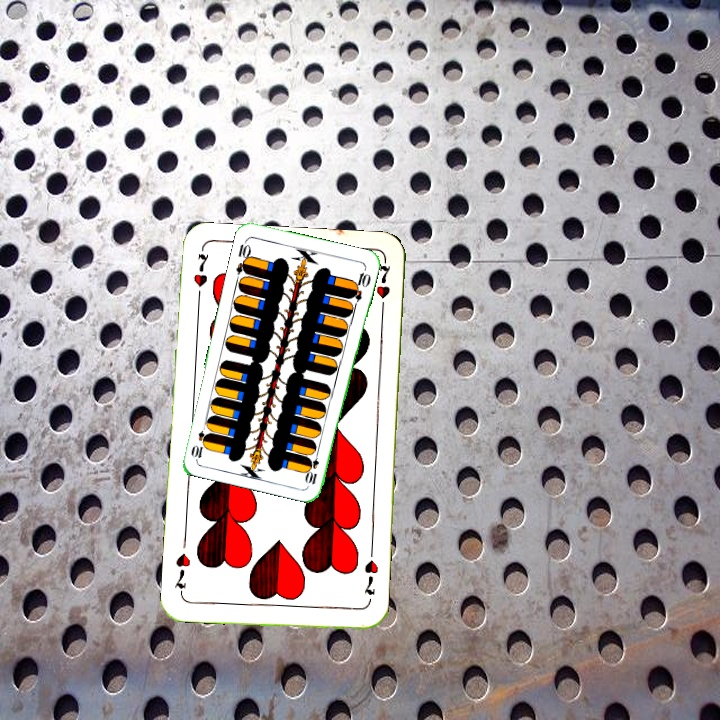E10: (232, 236, 253, 276), (303, 446, 321, 487)
H7: (189, 250, 212, 306), (360, 556, 381, 598)
